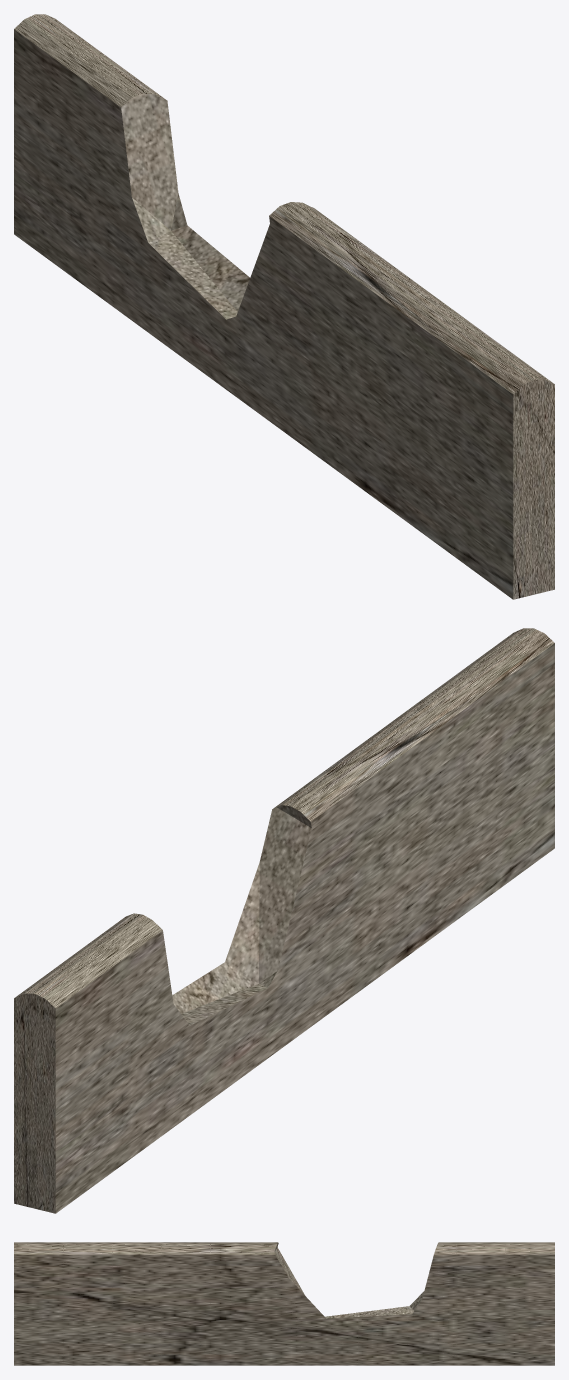
File: Broken wall.fbx
The picture shows the model from 3 angles, top to bottom: view 1: azimuth 30°, elevation 25°; view 2: azimuth 150°, elevation 25°; view 3: azimuth 270°, elevation 25°; orthographic projection. The views are drawn at different scales.
Visible parts, largest first — view 1: Cube.015; view 2: Cube.015; view 3: Cube.015.
Part boxes in pixels (x1,y1,x2,y2): Cube.015: (14,14,554,599); Cube.015: (14,628,554,1213); Cube.015: (14,1242,554,1365).
Size of the model in its own units: 22.71 by 112 by 470.
